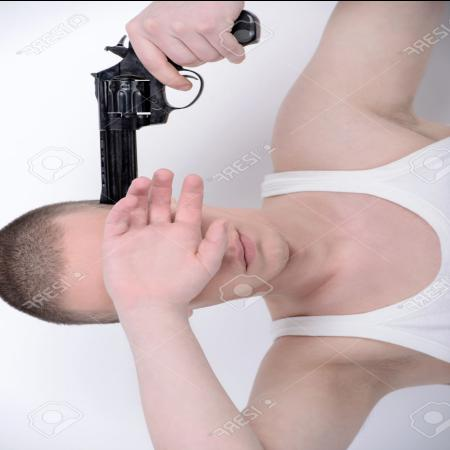Pistol: (99, 6, 260, 206)
